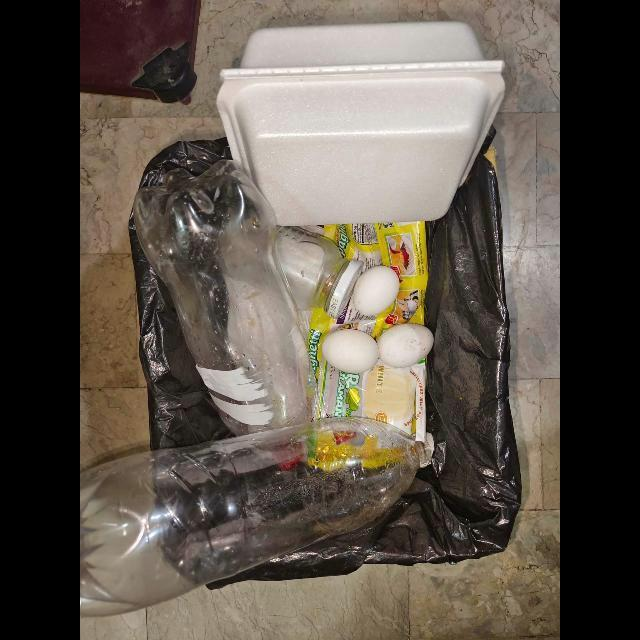glass_bottle: (276, 225, 362, 320)
plastic_bottle: (80, 417, 435, 618), (134, 160, 318, 437)
